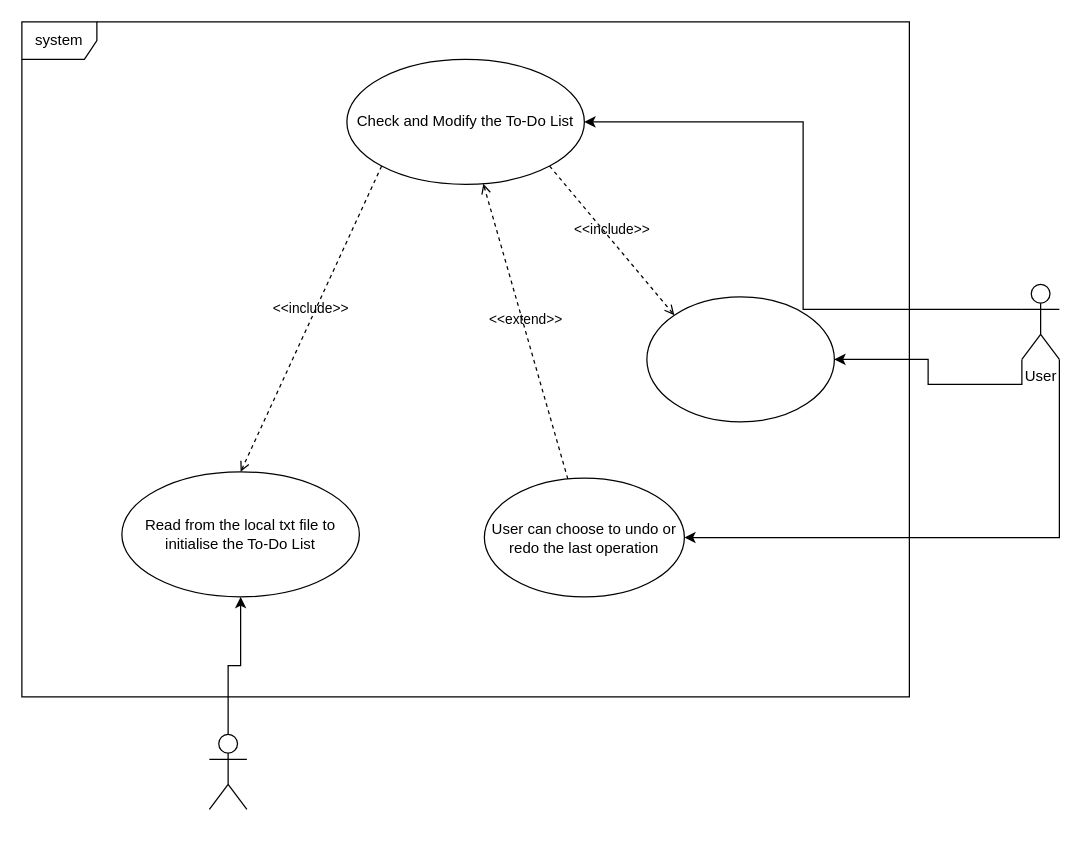
The diagram is 1091 pixels wide and 858 high, and some of its shapes have lost their labels. The shapes that lost their labels are listed below. From the top down, each one's centre as x and y in pixels, then its label:
pixel 740 359: Interact with the To-Do List by entering the required keys
pixel 227 771: Local FIles
